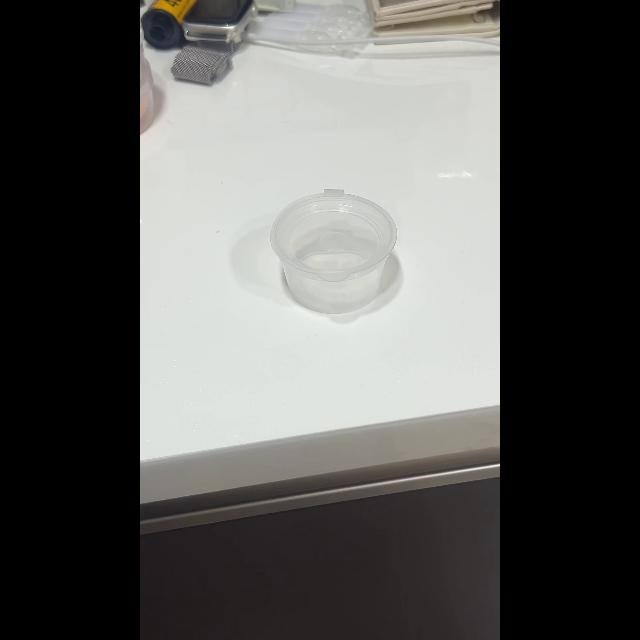clean: (268, 188, 404, 312)
